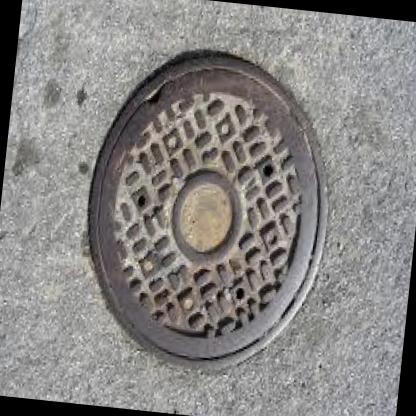manholes: (40, 5, 376, 410)
